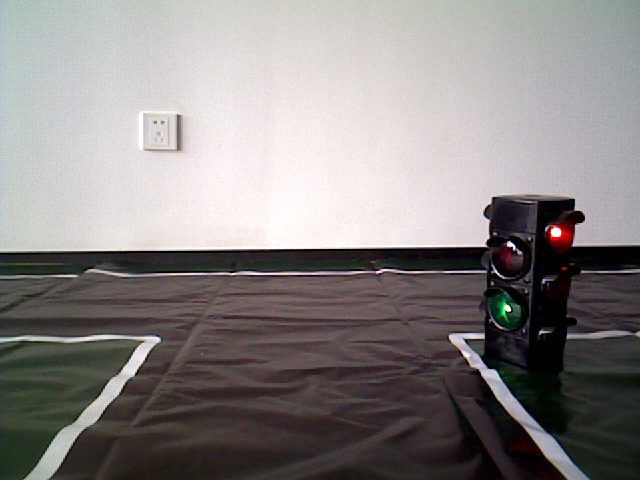red: (486, 197, 571, 362)
